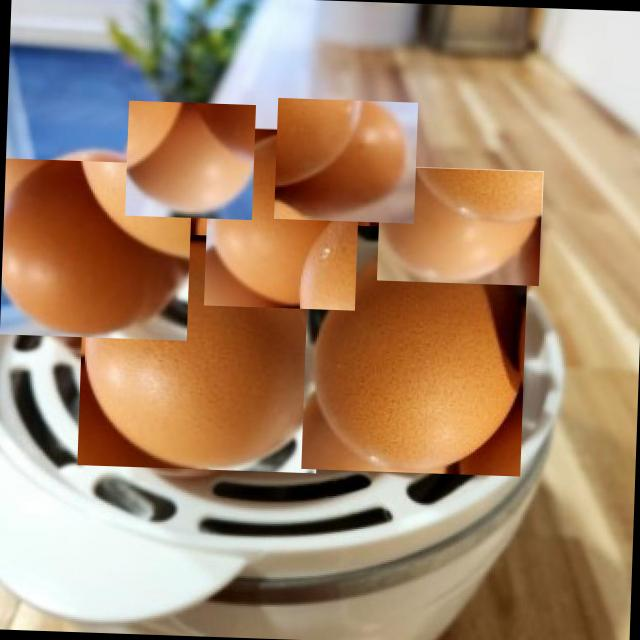eggs: (78, 229, 323, 475), (301, 223, 529, 477), (0, 153, 188, 345), (196, 132, 368, 304), (376, 165, 544, 286), (278, 93, 412, 228), (125, 100, 256, 220)
